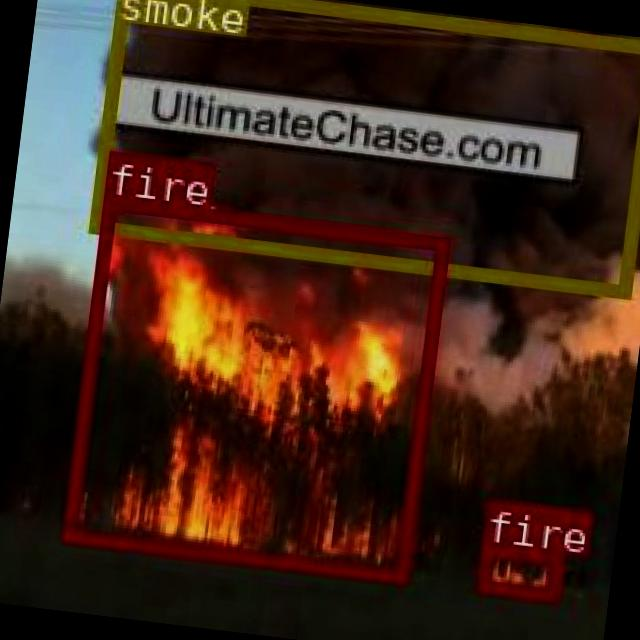fire: (61, 194, 448, 582), (474, 540, 560, 600)
smoke: (87, 0, 640, 294)
